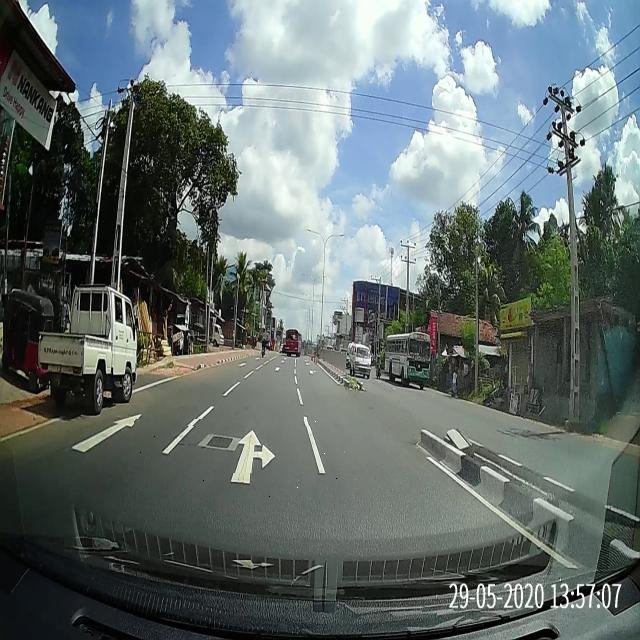forward_right: (135, 420, 338, 498), (146, 432, 333, 486), (156, 435, 329, 473), (165, 426, 322, 462)
